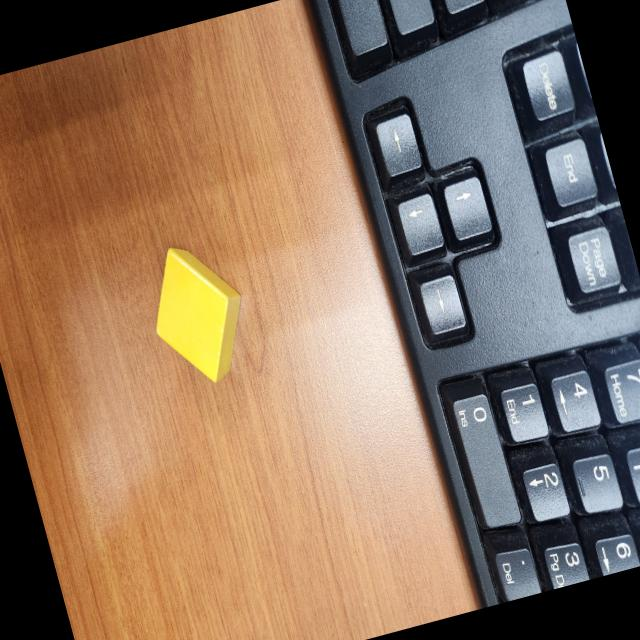yellow: (155, 248, 241, 383)
